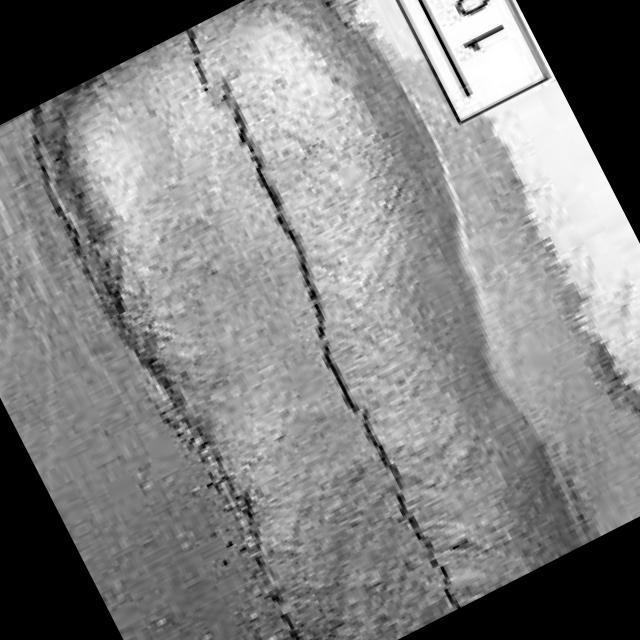defect: (176, 26, 465, 610)
